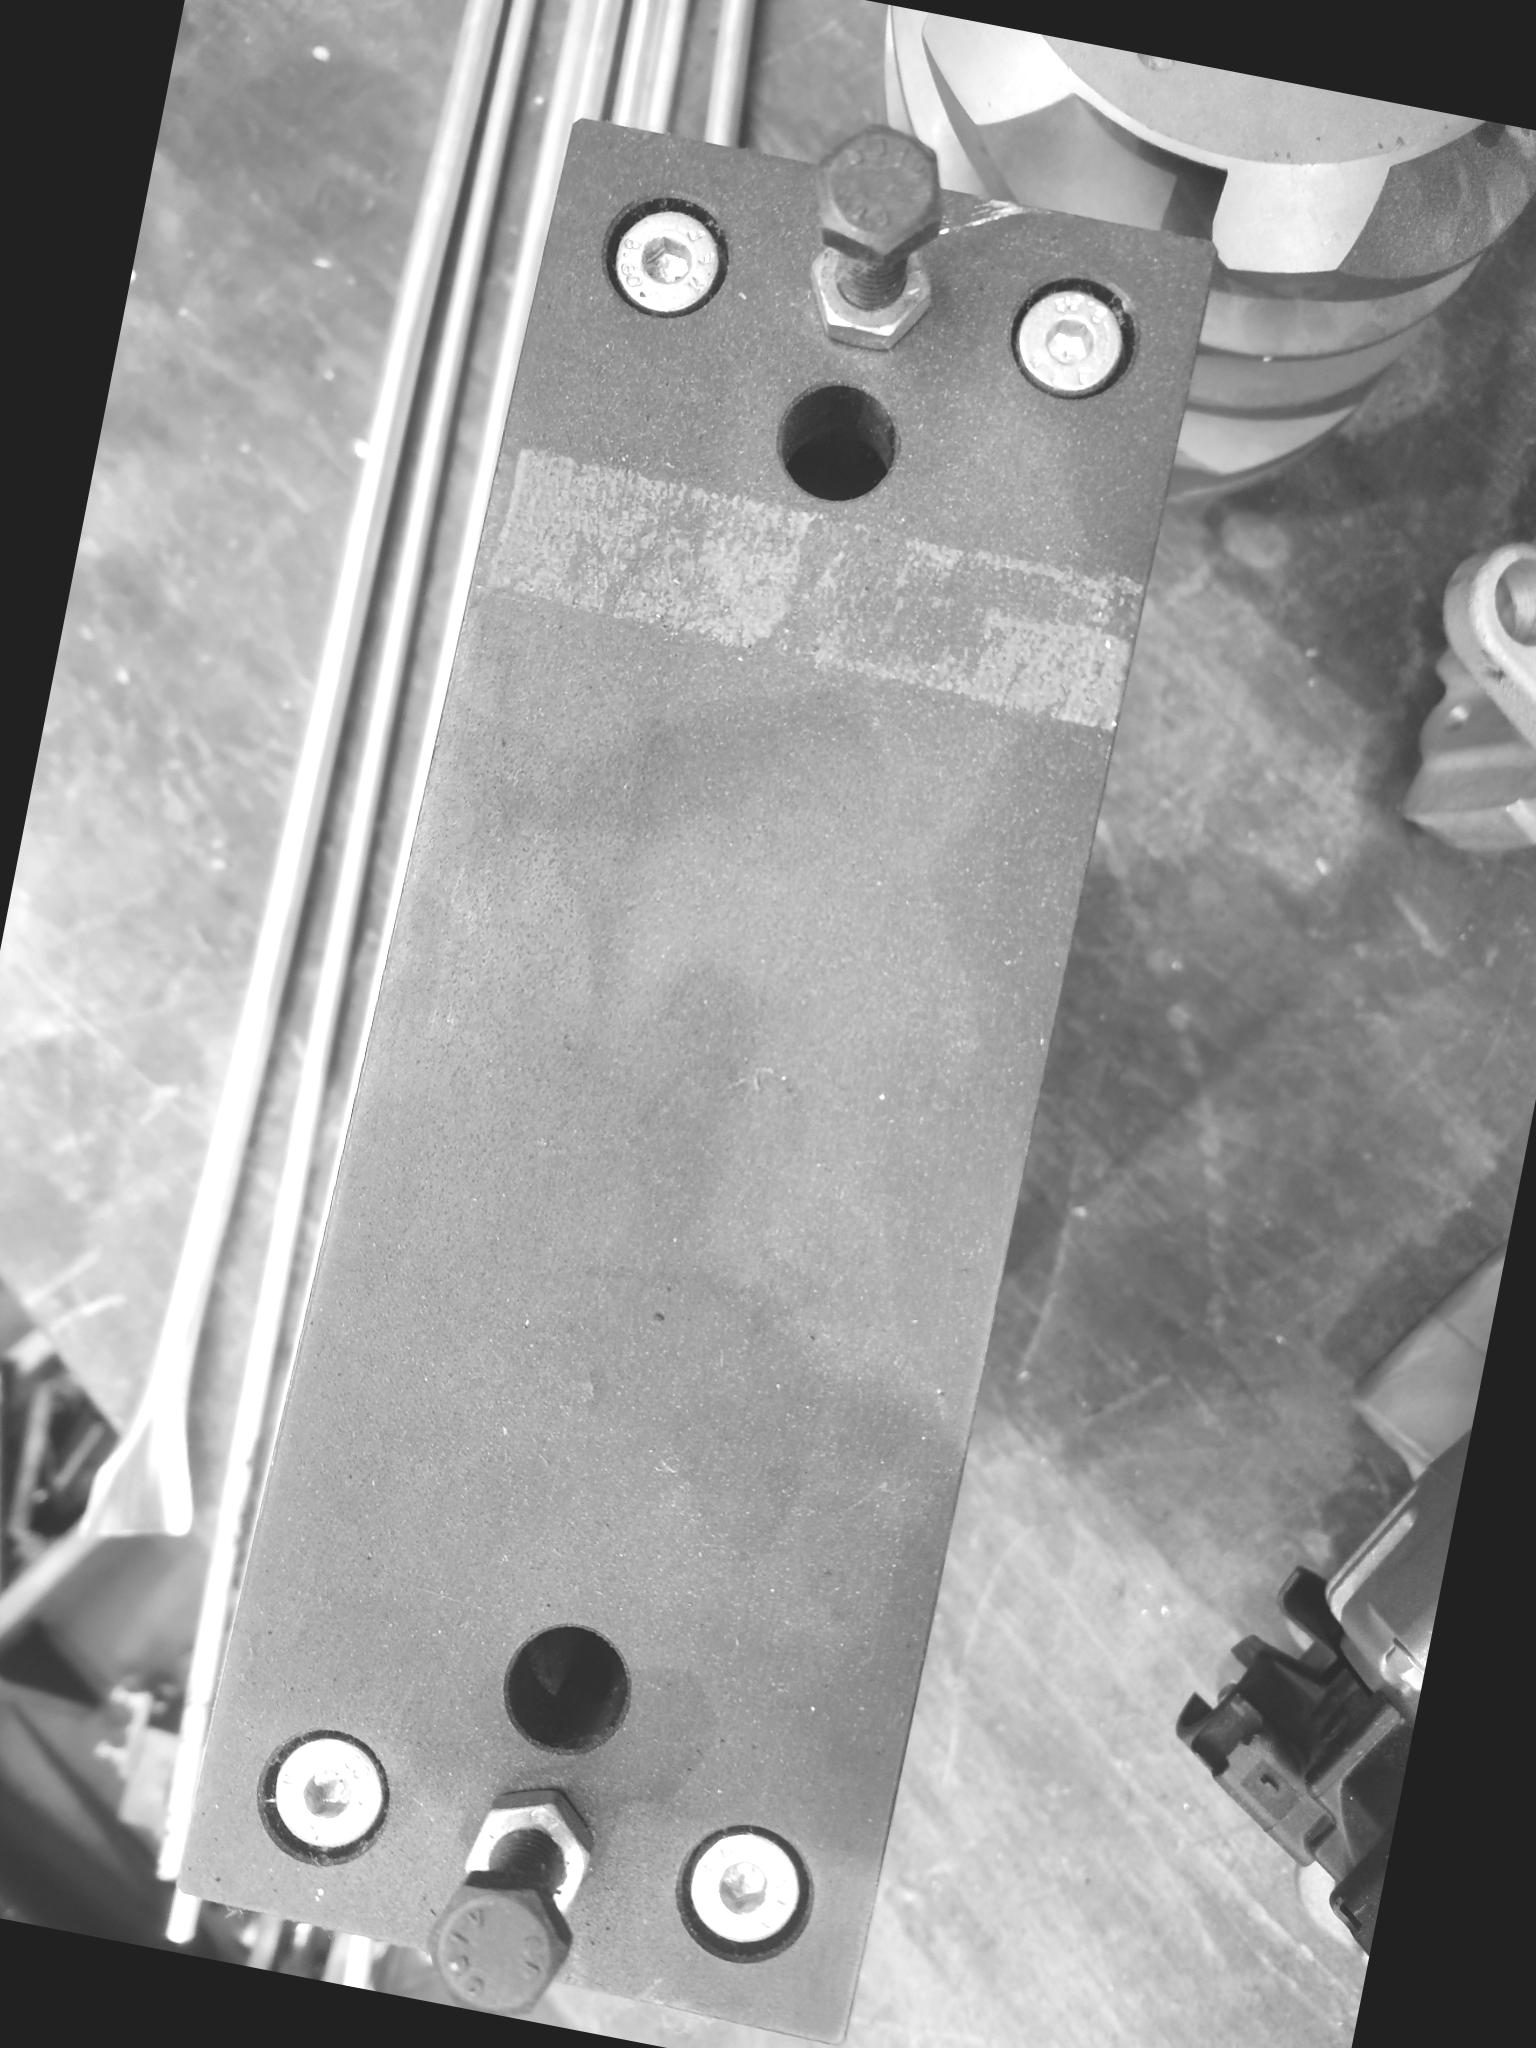screw: (415, 1856, 592, 2027), (794, 111, 962, 279), (663, 1808, 831, 1974), (989, 256, 1155, 419), (587, 179, 744, 334), (252, 1722, 410, 1875)
